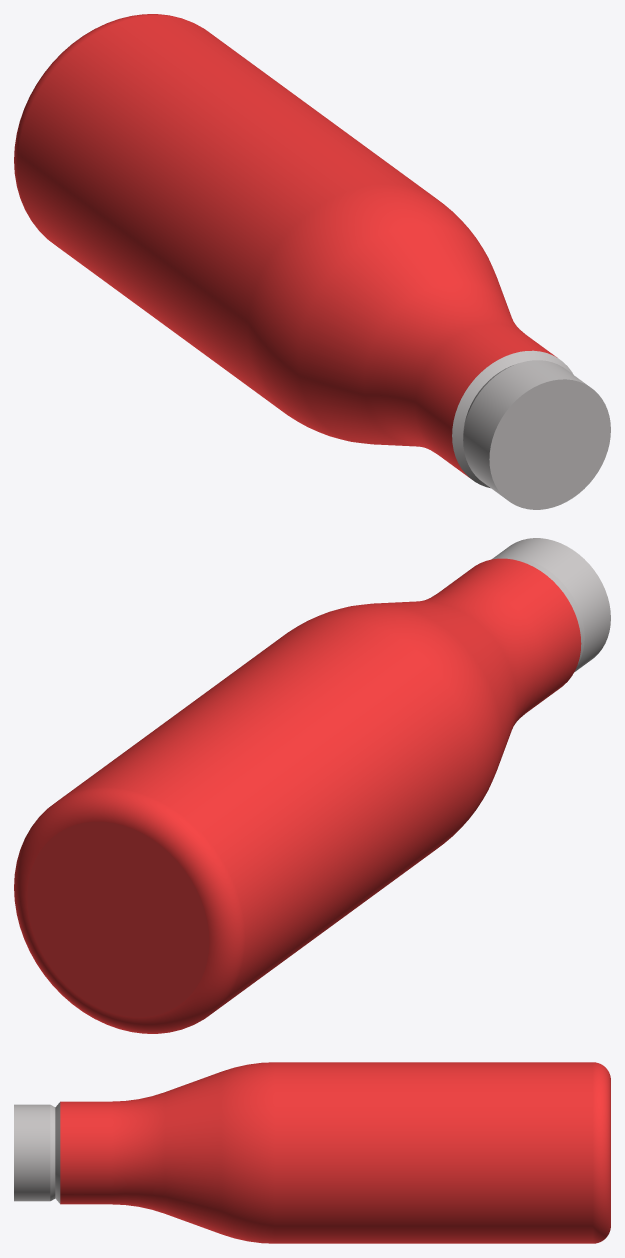
The model's file is savos-ketchup.glb.
The picture shows the model from 3 angles, top to bottom: view 1: azimuth 30°, elevation 25°; view 2: azimuth 150°, elevation 25°; view 3: azimuth 270°, elevation 25°; orthographic projection. The views are drawn at different scales.
Visible parts, largest first — view 1: Part 1; view 2: Part 1; view 3: Part 1.
Boxes of the visible parts, x1,y1,x2,y2 form: Part 1: (14, 14, 610, 509); Part 1: (14, 538, 610, 1033); Part 1: (14, 1062, 610, 1243).
Size of the model in its own units: 0.03 by 0.03 by 0.0985.
